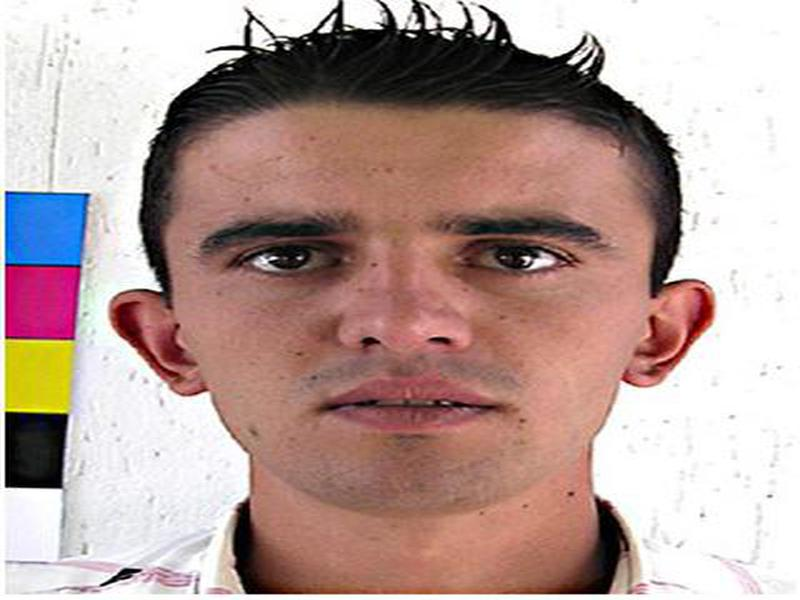without_mask: (163, 110, 649, 516)
